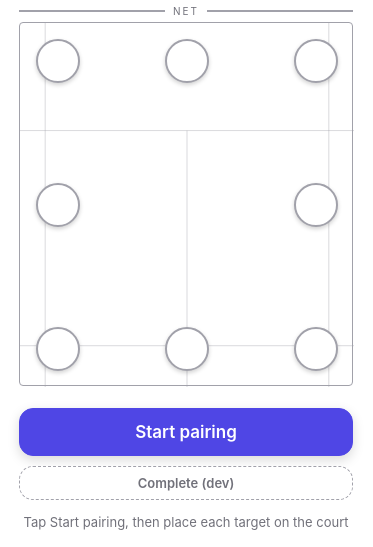
Test: placing a target: pulse → prompt (ping) → confirm → bound
The image size is (373, 547).
What coordinates should you click on to do the following:
click the button with test id "start-pairing"
I would click on:
 (186, 432)
Its box is [19, 408, 353, 456].
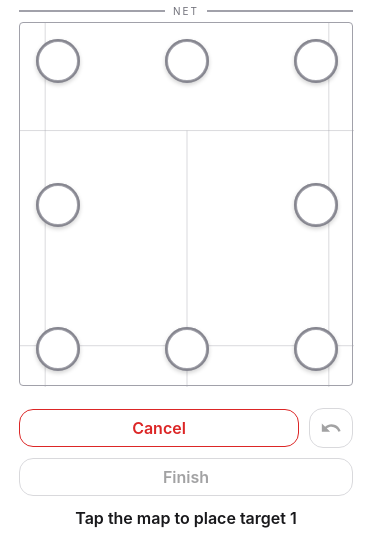
What coordinates should you click on to do the following:
click the button with test id "spot-0-pulse"
I would click on:
 (58, 61)
Its box is [30, 33, 86, 89].
Wait 100 ms
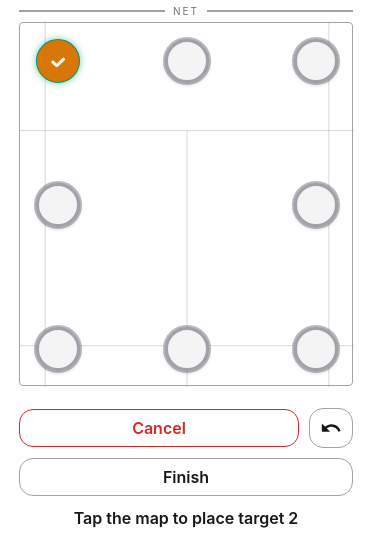
Result: the text "Tap the map to place target 2" is shown at [74, 508, 298, 528]
Result: the button with test id "spot-0-bound" is shown at [30, 33, 86, 89]
